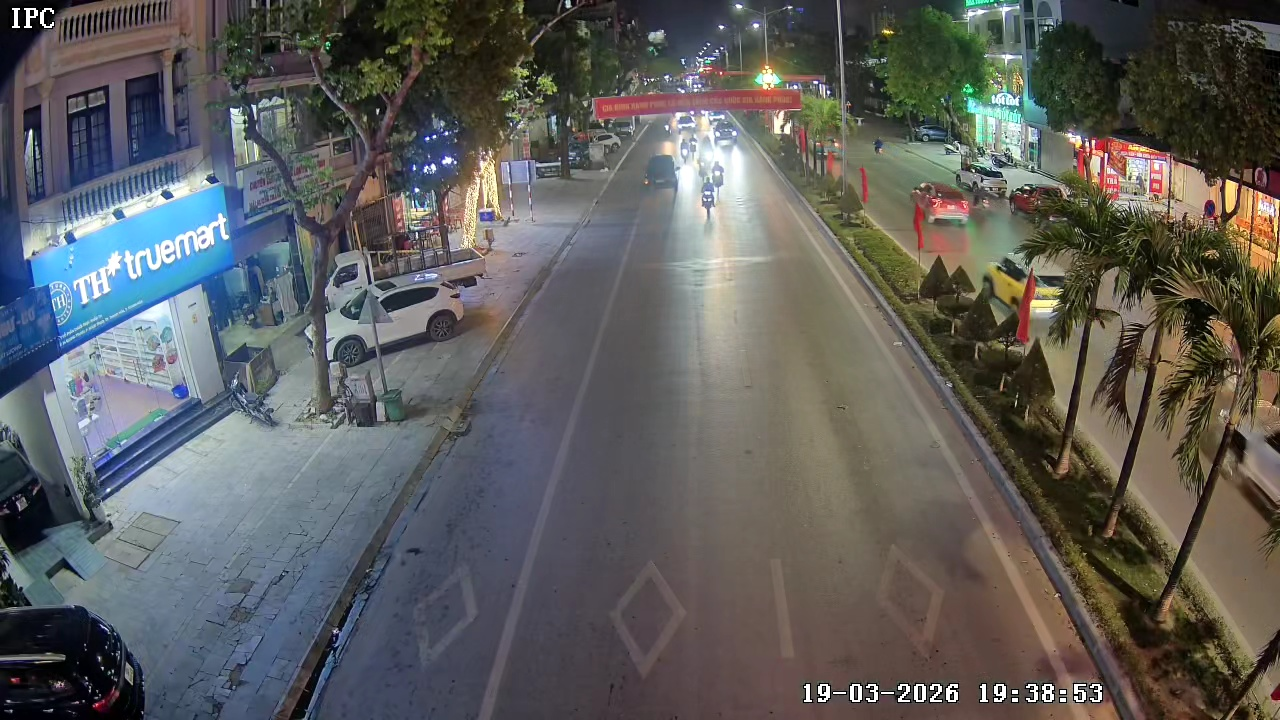car: (0, 602, 150, 719)
motorbike: (643, 148, 677, 189), (699, 174, 724, 224)
